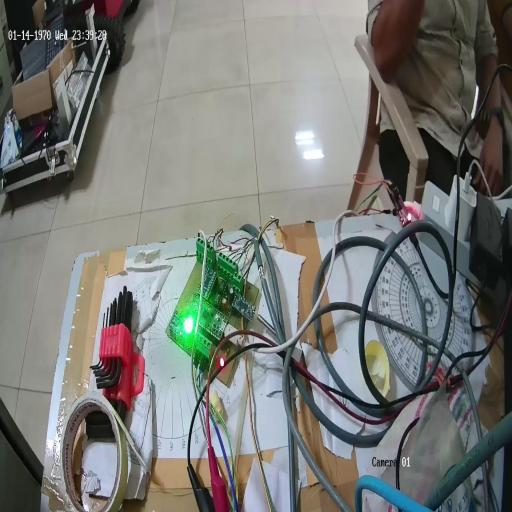laser: (181, 310, 196, 337)
